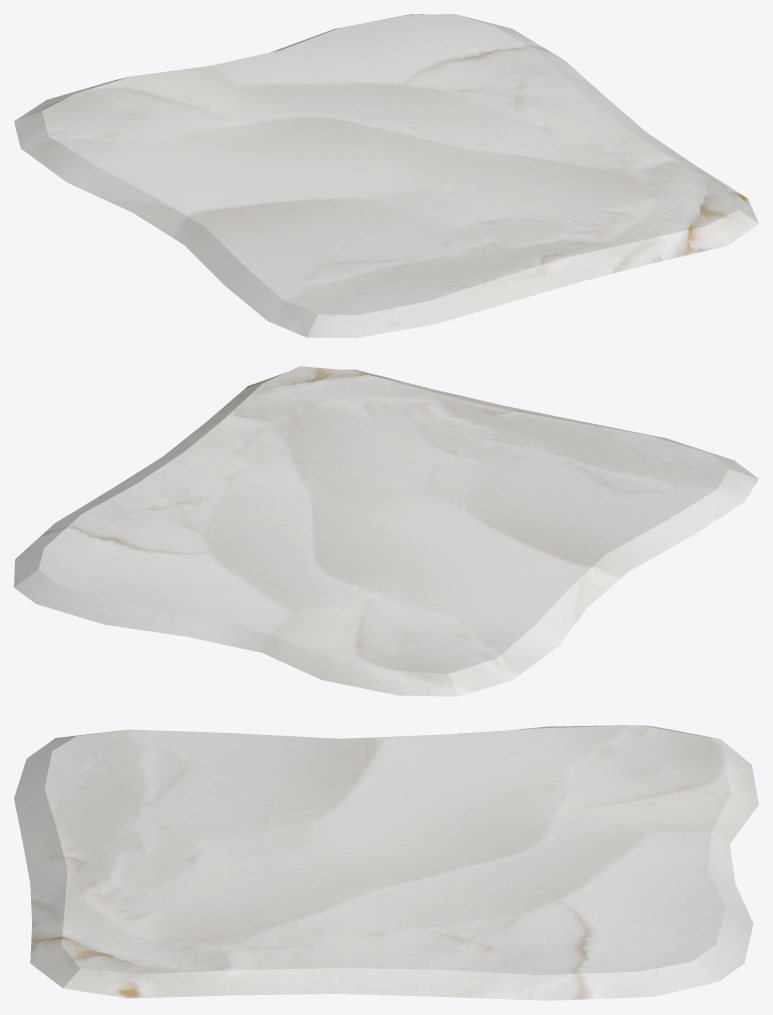
File: creamcheese.fbx
3 views of the same model, one above another, from view 1: azimuth 30°, elevation 25°; view 2: azimuth 150°, elevation 25°; view 3: azimuth 270°, elevation 25° (orthographic). The views are drawn at different scales.
Visible parts, largest first — view 1: creamcheese; view 2: creamcheese; view 3: creamcheese.
Boxes of the visible parts, x1,y1,x2,y2 form: creamcheese: (14,14,758,337); creamcheese: (14,366,758,696); creamcheese: (14,725,758,1000).
Size of the model in its own units: 0.7237 by 0.0162 by 0.8306.
1 material, 1 textured.
